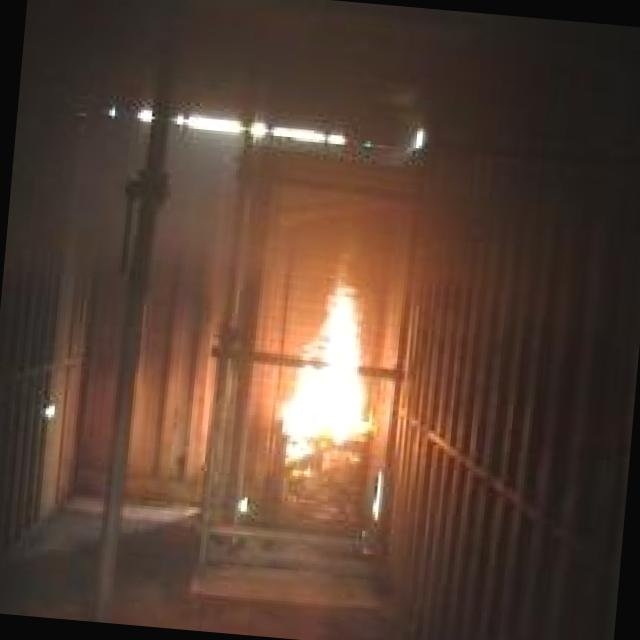fire: (271, 267, 378, 460)
